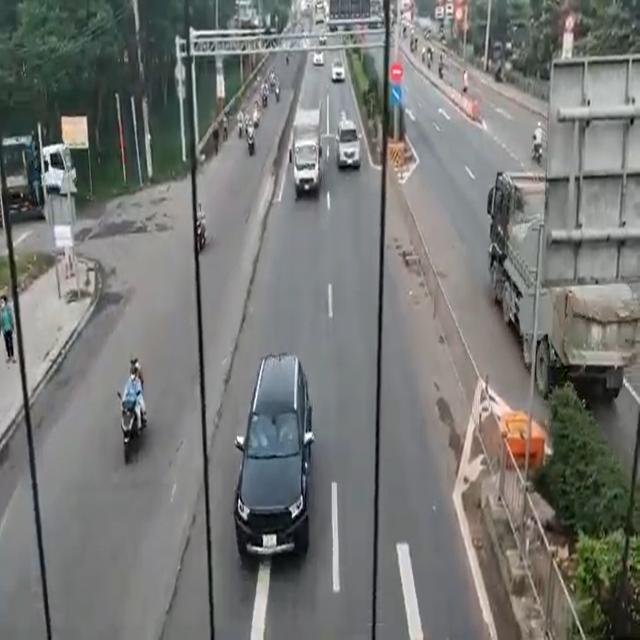car: (239, 356, 306, 554), (334, 114, 358, 172)
motorbike: (121, 370, 142, 453)
truck: (485, 163, 630, 374), (292, 105, 323, 198)
